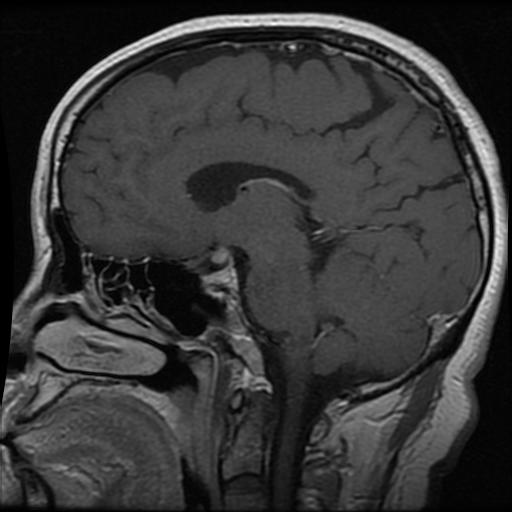Pituirity_tumour: (200, 246, 237, 292)
